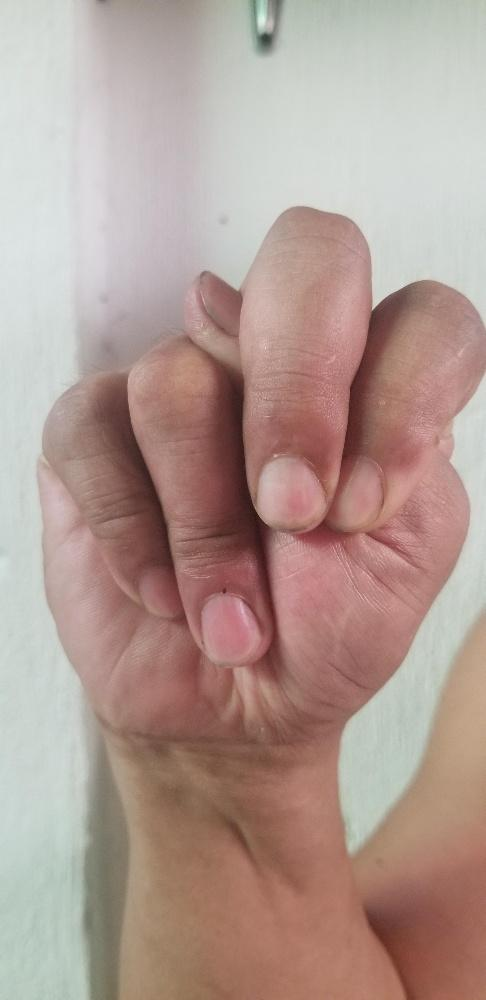n: (31, 205, 485, 737)
